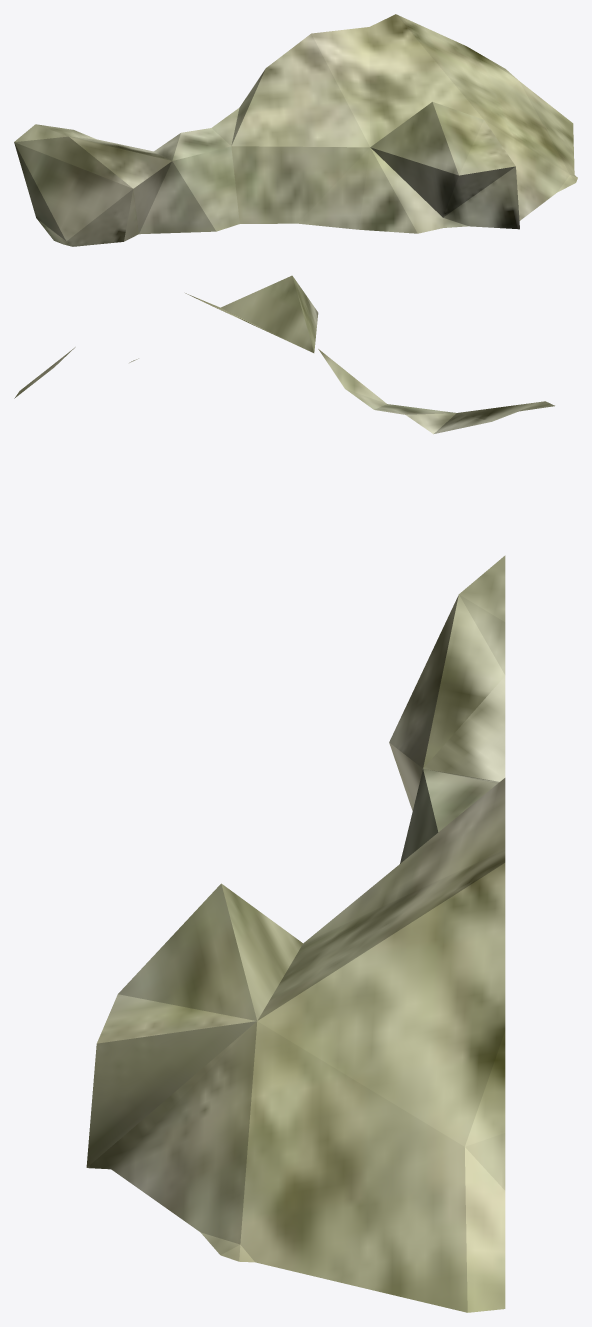
The picture shows the model from 3 angles, top to bottom: view 1: azimuth 30°, elevation 25°; view 2: azimuth 150°, elevation 25°; view 3: azimuth 270°, elevation 25°; orthographic projection. The views are drawn at different scales.
Size of the model in its own units: 1.62 by 0.4064 by 0.5338.
1 material, 1 textured.
